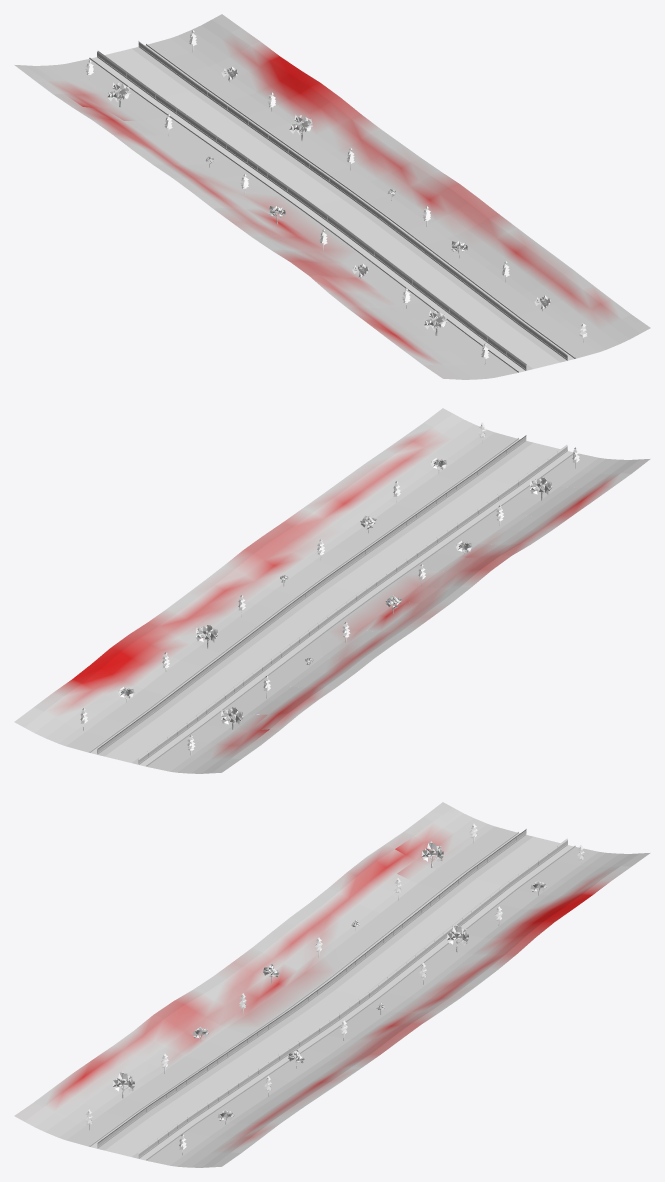
The picture shows the model from 3 angles, top to bottom: view 1: azimuth 30°, elevation 25°; view 2: azimuth 150°, elevation 25°; view 3: azimuth 330°, elevation 25°; orthographic projection.
Parts seen in each view (by area): view 1: Grass, Road, Track, Wirefence, Trees; view 2: Grass, Road, Track, Wirefence, Trees; view 3: Grass, Road, Track, Wirefence, Trees.
Part boxes in pixels (left/top/right/bottom): Grass: left=14, top=14, right=650, bottom=379; Road: left=105, top=48, right=559, bottom=368; Track: left=89, top=42, right=575, bottom=372; Wirefence: left=97, top=41, right=567, bottom=369; Trees: left=85, top=30, right=586, bottom=364; Grass: left=14, top=408, right=650, bottom=773; Road: left=105, top=442, right=559, bottom=762; Track: left=89, top=437, right=573, bottom=766; Wirefence: left=97, top=435, right=567, bottom=763; Trees: left=80, top=422, right=579, bottom=754; Grass: left=14, top=802, right=650, bottom=1167; Road: left=105, top=836, right=559, bottom=1156; Track: left=89, top=830, right=575, bottom=1160; Wirefence: left=97, top=829, right=567, bottom=1157; Trees: left=85, top=823, right=584, bottom=1155.
Size of what is drawn, in the model's own units: 14272 by 1749 by 50000.
